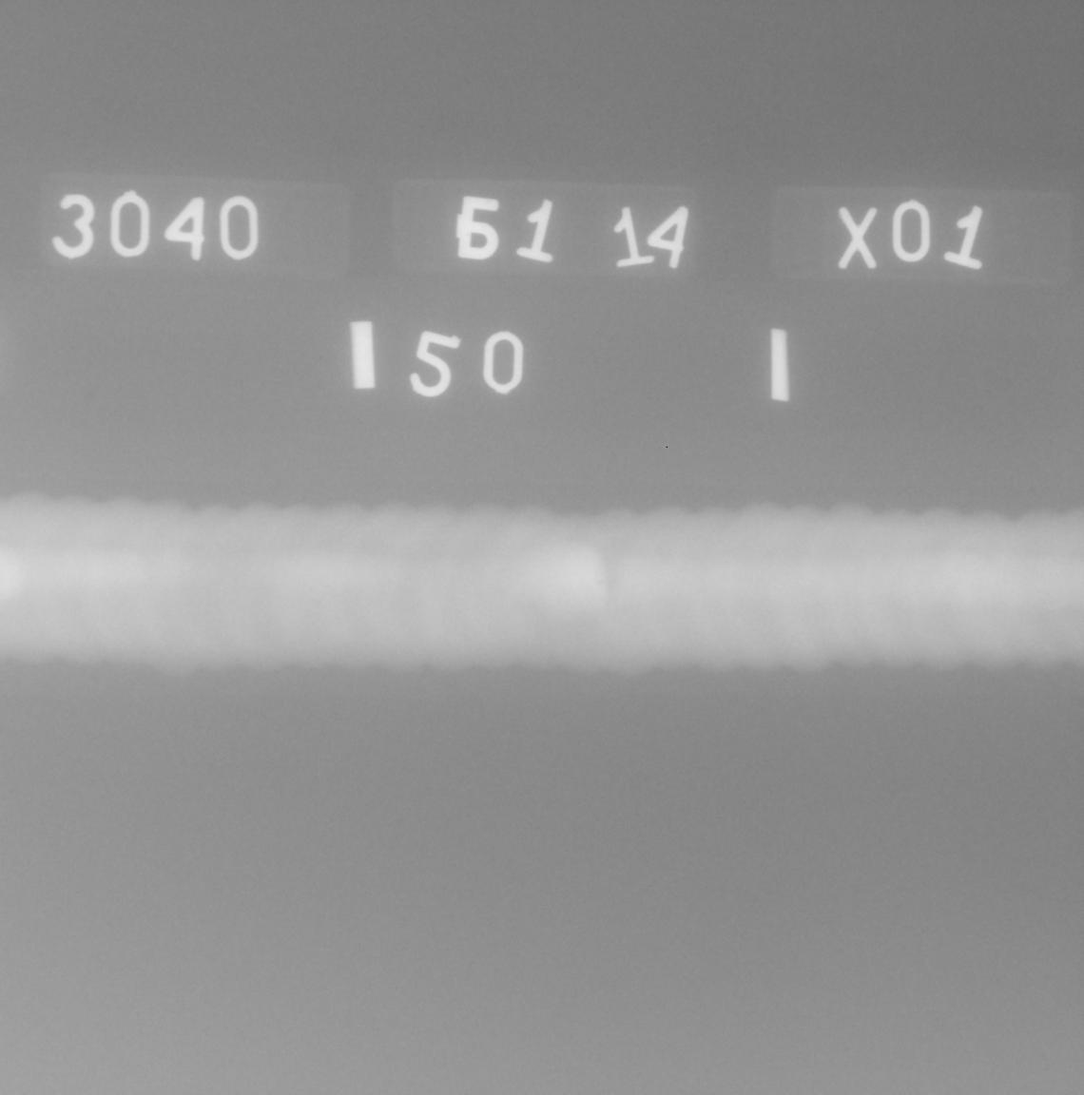Pore/Porosity: (597, 582, 603, 587)
